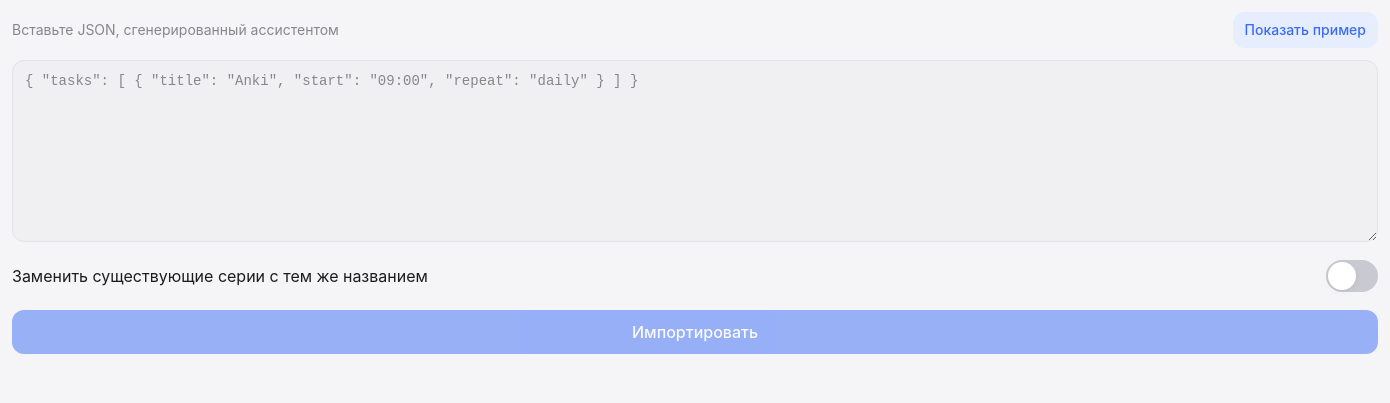
Test: ImportSection › imports the example into db.tasks
This screenshot has width=1390, height=403.
Check: the button "Импортировать" is disabled, box [12,310,1378,354]
Click the button "Показать пример" at (1305, 30), box [1232,12,1378,48]
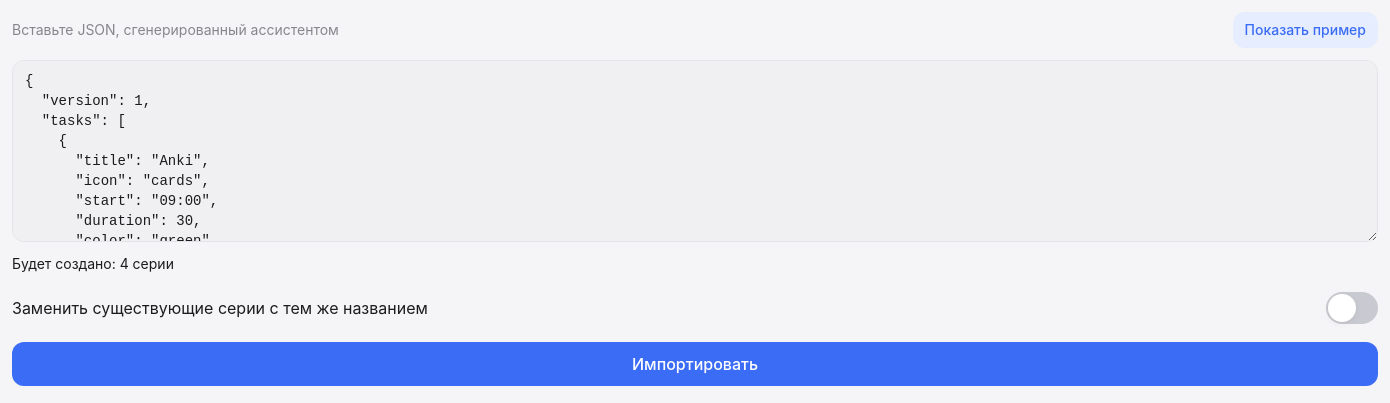
Check: the text "Будет создано: 4 серии" is shown, box [12,255,174,272]
Check: the button "Импортировать" is enabled
Click the button "Импортировать" at (695, 364), box [12,342,1378,386]
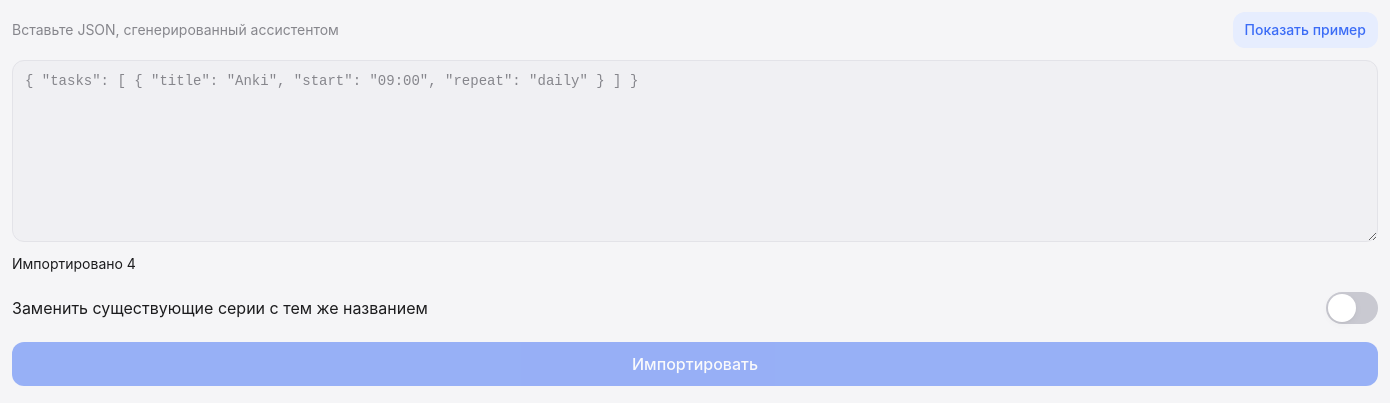
Check: the text "Импортировано 4" is shown, box [12,255,136,272]
Check: the text box named "JSON для импорта" is empty, box [12,60,1378,242]
